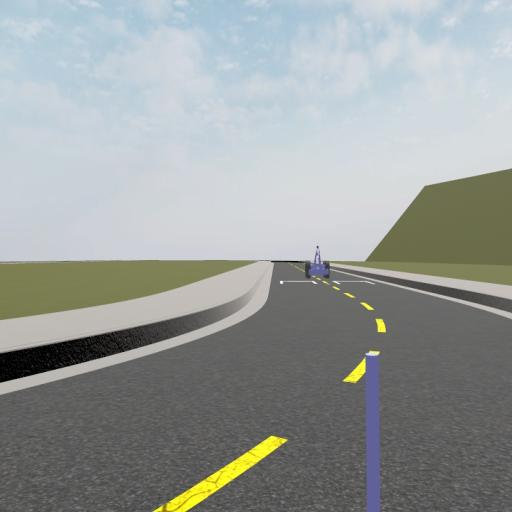ERP-42: (304, 244, 331, 280)
